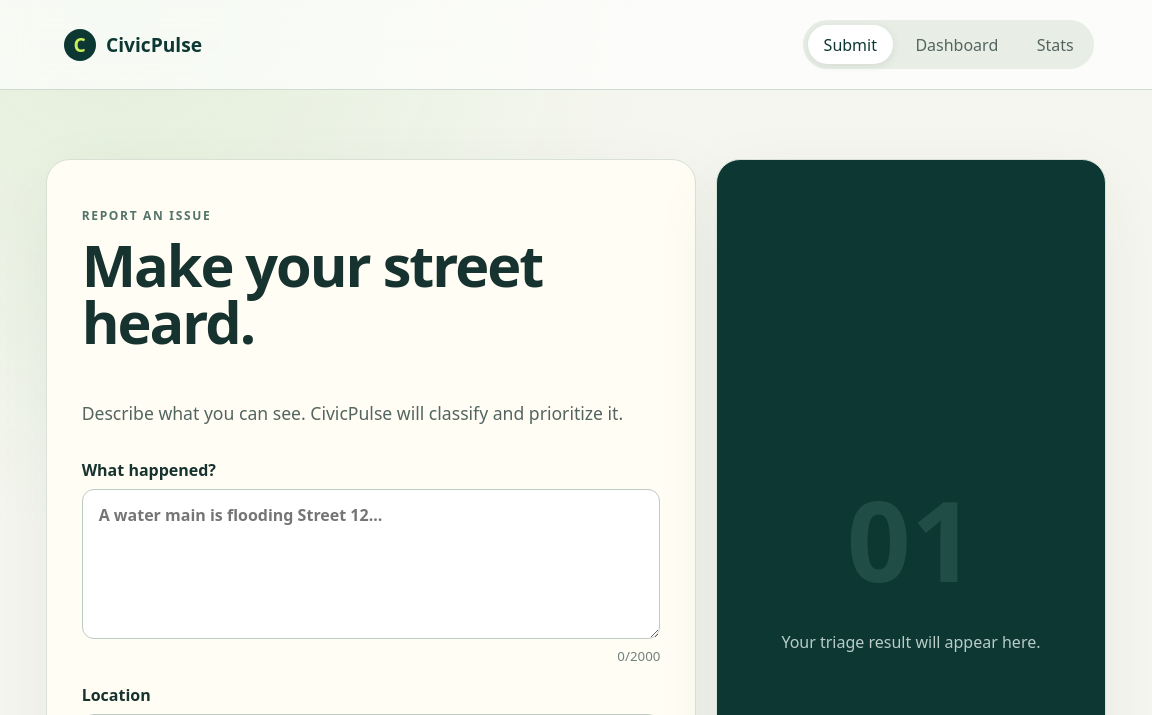
Scenario: CivicPulse › clears an old triage result before validating a new report
Type "Water main is flooding the street" into the text box labelled "What happened?" at (371, 564), box [82,489,660,639]
(page scrolled)
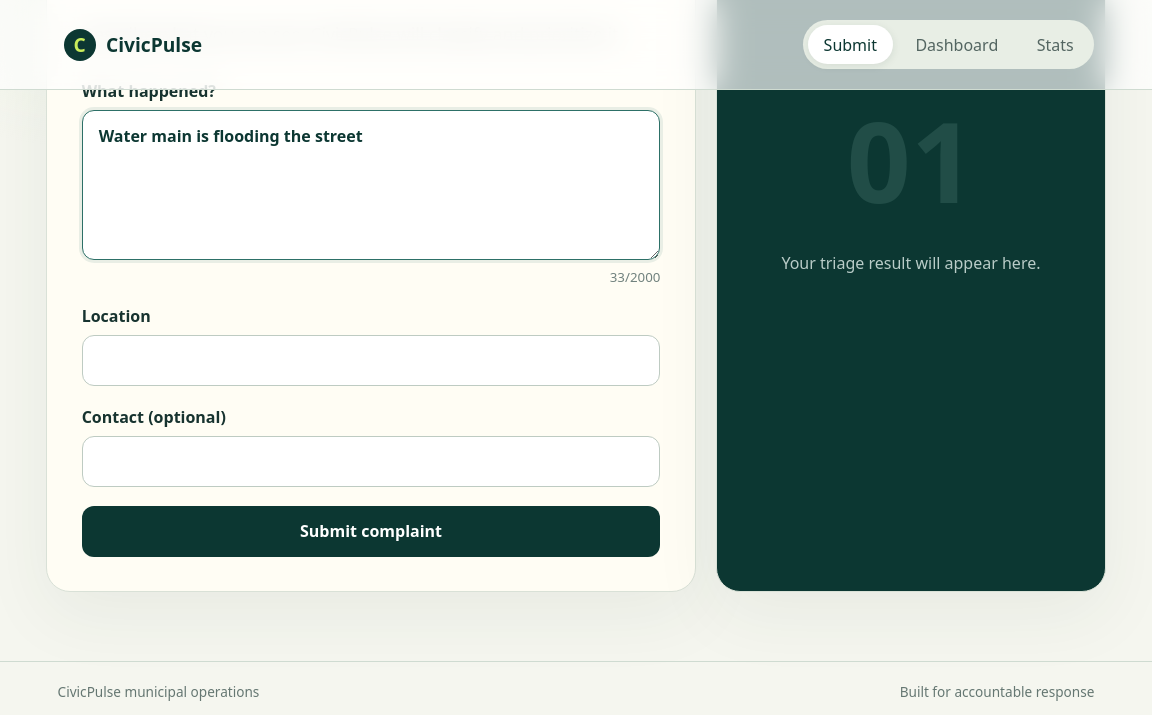
Type "Street 12" into the field labelled "Location" at (371, 361), box [82,335,660,386]
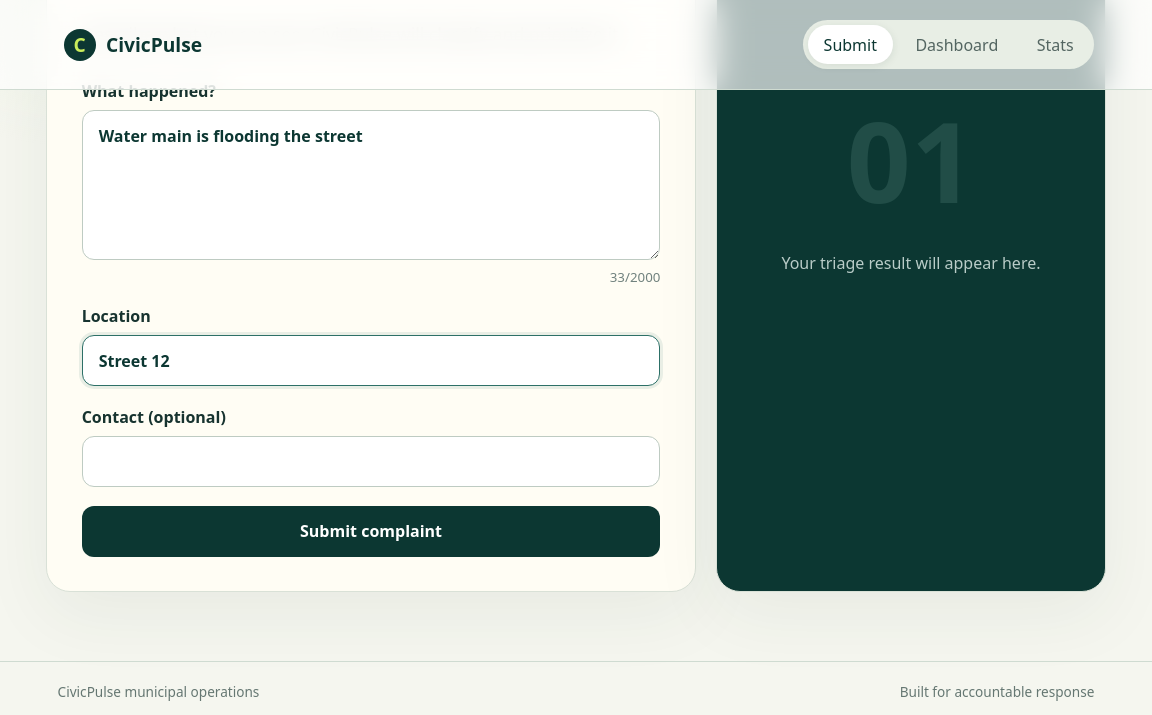
Click the button "Submit complaint" at (371, 531), box [82,506,660,557]
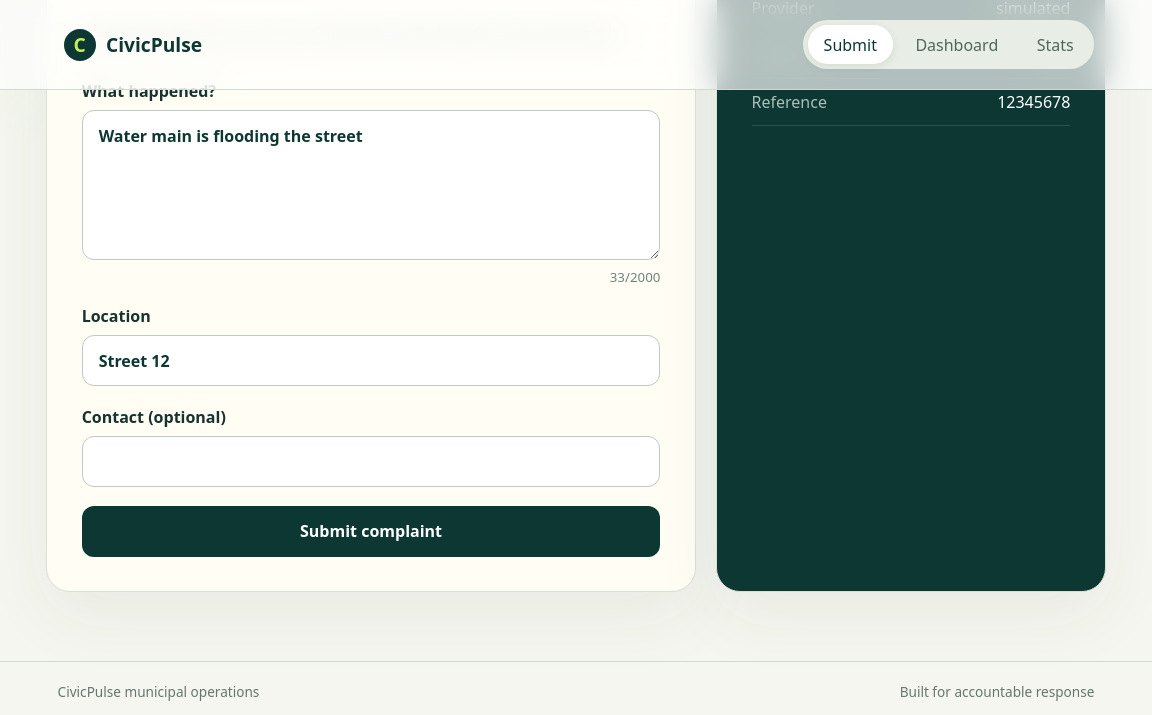
Replace the text in the text box labelled "What happened?" with "short" at (371, 185), box [82,110,660,260]
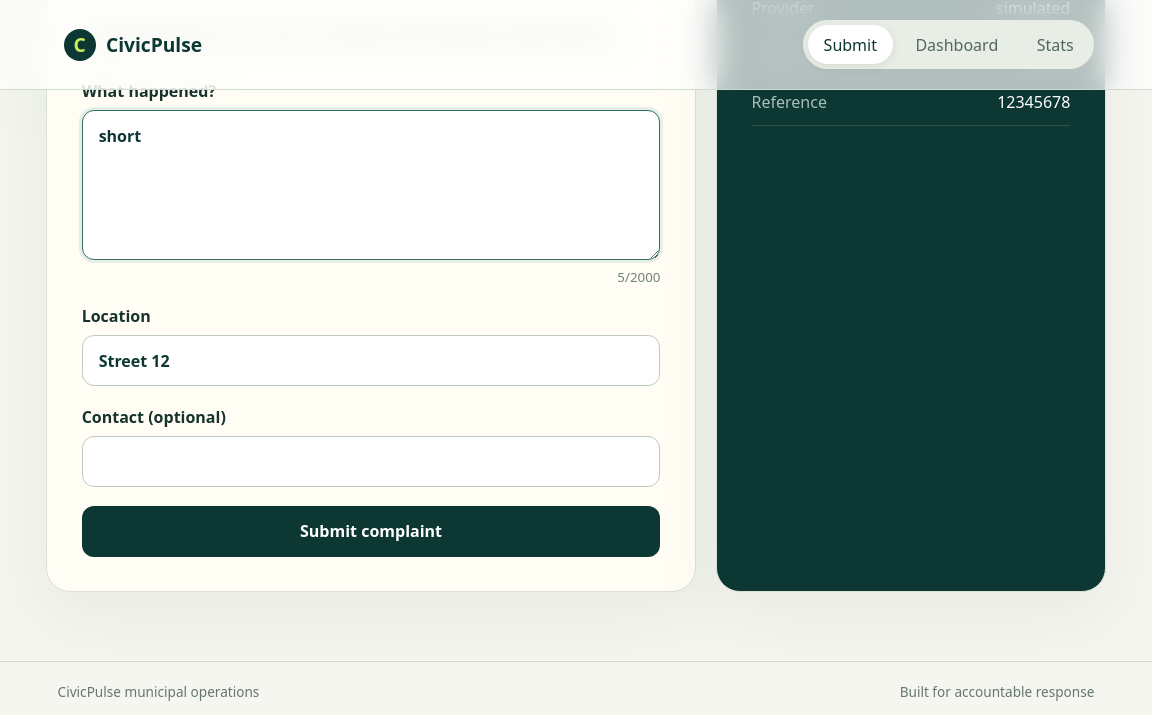
Click the button "Submit complaint" at (371, 531), box [82,506,660,557]
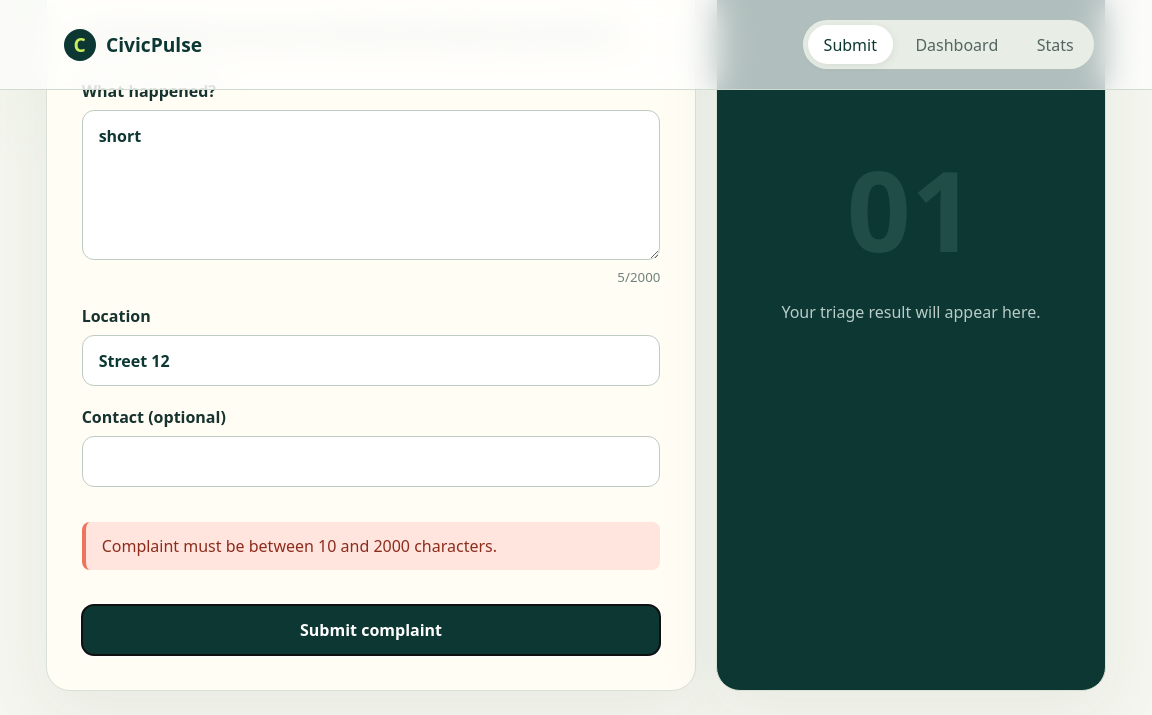
Now the message shows "between 10 and 2000", box [102,535,497,557]
